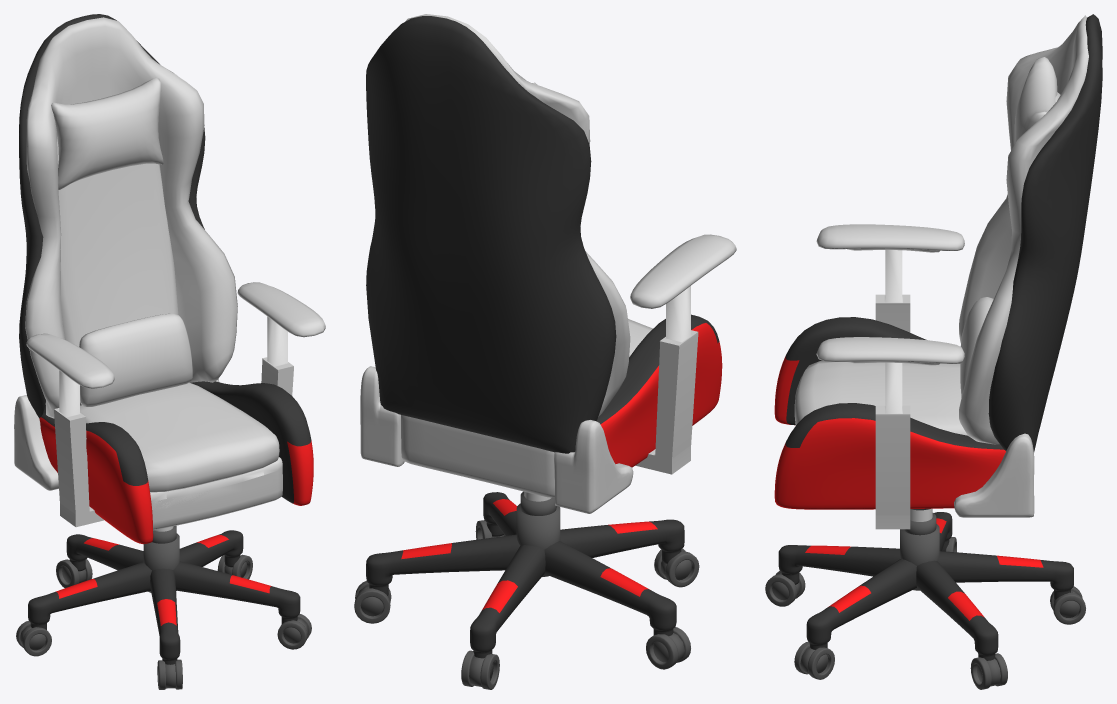
File: GamingChair7.glb
3 renders of one model, left to right at view 1: azimuth 30°, elevation 25°; view 2: azimuth 150°, elevation 25°; view 3: azimuth 270°, elevation 25°, orthographic. The views are drawn at different scales.
Parts seen in each view (by area): view 1: Body, Back, Pillows, SeatCushion, SideCushion, Legs, Arm, ArmPads, Shell, Wheels, Corner, Pole; view 2: Shell, Legs, Body, SideCushion, Corner, Arm, Wheels, ArmPads, Pole; view 3: Shell, SideCushion, Legs, Body, SeatCushion, Arm, ArmPads, Wheels, Corner, Pillows, Pole.
Boxes of the visible parts, x1,y1,x2,y2 form: Body: [25, 17, 282, 530]; Back: [57, 137, 178, 405]; Pillows: [51, 77, 192, 406]; SeatCushion: [80, 382, 279, 492]; SideCushion: [39, 381, 313, 544]; Legs: [28, 530, 300, 664]; Arm: [54, 316, 293, 527]; ArmPads: [26, 282, 325, 388]; Shell: [19, 14, 205, 417]; Wheels: [16, 554, 311, 689]; Corner: [14, 379, 219, 490]; Pole: [143, 526, 179, 592]; Shell: [366, 16, 616, 453]; Legs: [366, 492, 684, 658]; Body: [401, 14, 630, 497]; SideCushion: [596, 314, 722, 467]; Corner: [360, 366, 633, 513]; Arm: [635, 286, 698, 474]; Wheels: [354, 520, 699, 689]; ArmPads: [630, 234, 736, 308]; Pole: [516, 491, 560, 576]; Shell: [988, 14, 1102, 451]; SideCushion: [774, 317, 1005, 509]; Legs: [778, 512, 1073, 660]; Body: [959, 15, 1088, 444]; SeatCushion: [794, 361, 967, 435]; Arm: [875, 250, 910, 529]; ArmPads: [816, 224, 964, 365]; Wheels: [765, 537, 1085, 689]; Corner: [954, 433, 1034, 517]; Pillows: [960, 57, 1057, 397]; Pole: [900, 508, 939, 590].
Bounding box in the file's own units: 2.38 × 4.93 × 2.48.
